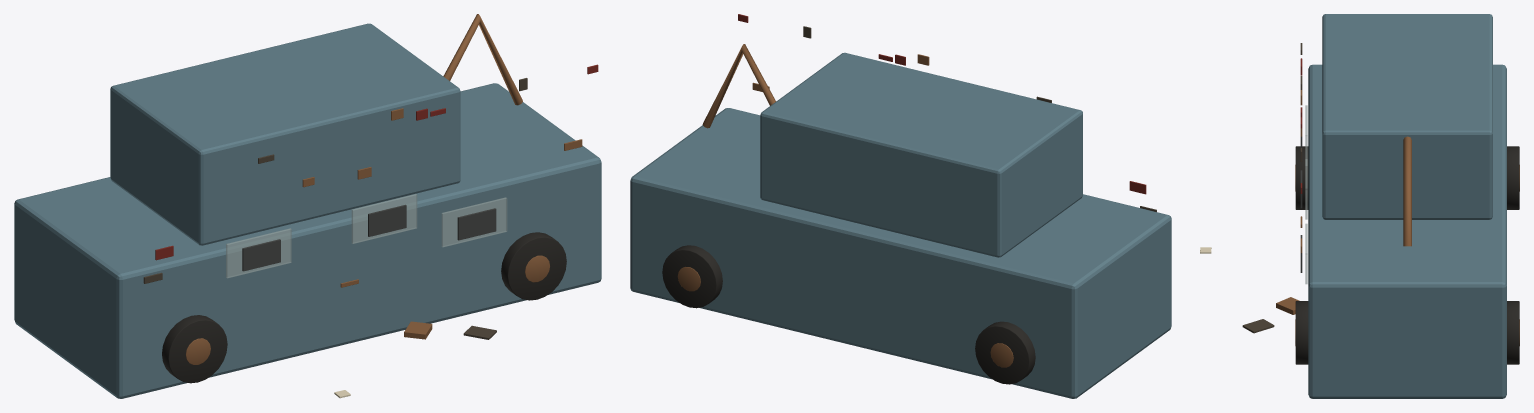
File: dz_vehicle_service_truck_old_premium.glb
3 views of the same model, side by side, from view 1: azimuth 30°, elevation 25°; view 2: azimuth 150°, elevation 25°; view 3: azimuth 270°, elevation 25° (orthographic). The views are drawn at different scales.
Visible parts, largest first — view 1: vehicle_lower_body_dented, vehicle_cabin_crushed, flat_muddy_tire_1.89_-1.0659999999999998, flat_muddy_tire_-1.89_-1.0659999999999998, broken_window_1.25, broken_window_0.25, broken_window_-1.15, tow_crane_arm, window_hole_shadow_1.25, window_hole_shadow_-1.15, window_hole_shadow_0.25, rusted_wheel_hub_1.89_-1.0659999999999998 (+1 smaller); view 2: vehicle_lower_body_dented, vehicle_cabin_crushed, flat_muddy_tire_-1.89_1.0659999999999998, flat_muddy_tire_1.89_1.0659999999999998, tow_crane_arm; view 3: vehicle_lower_body_dented, vehicle_cabin_crushed, tow_crane_arm, flat_muddy_tire_1.89_-1.0659999999999998, flat_muddy_tire_-1.89_-1.0659999999999998, flat_muddy_tire_-1.89_1.0659999999999998, flat_muddy_tire_1.89_1.0659999999999998.
Boxes of the visible parts, left/top/right/bottom form: vehicle_lower_body_dented: left=14, top=83, right=601, bottom=398; vehicle_cabin_crushed: left=110, top=23, right=460, bottom=245; flat_muddy_tire_1.89_-1.0659999999999998: left=501, top=232, right=566, bottom=300; flat_muddy_tire_-1.89_-1.0659999999999998: left=162, top=315, right=227, bottom=383; broken_window_1.25: left=441, top=197, right=507, bottom=247; broken_window_0.25: left=351, top=194, right=417, bottom=243; broken_window_-1.15: left=226, top=228, right=291, bottom=278; tow_crane_arm: left=443, top=14, right=522, bottom=105; window_hole_shadow_1.25: left=457, top=208, right=496, bottom=240; window_hole_shadow_-1.15: left=242, top=239, right=280, bottom=271; window_hole_shadow_0.25: left=368, top=204, right=406, bottom=236; rusted_wheel_hub_1.89_-1.0659999999999998: left=525, top=255, right=549, bottom=282; vehicle_lower_body_dented: left=630, top=108, right=1171, bottom=398; vehicle_cabin_crushed: left=760, top=52, right=1082, bottom=257; flat_muddy_tire_-1.89_1.0659999999999998: left=975, top=321, right=1035, bottom=384; flat_muddy_tire_1.89_1.0659999999999998: left=662, top=245, right=722, bottom=308; tow_crane_arm: left=702, top=44, right=775, bottom=128; vehicle_lower_body_dented: left=1308, top=64, right=1506, bottom=398; vehicle_cabin_crushed: left=1322, top=14, right=1492, bottom=219; tow_crane_arm: left=1403, top=136, right=1411, bottom=246; flat_muddy_tire_1.89_-1.0659999999999998: left=1295, top=301, right=1308, bottom=364; flat_muddy_tire_-1.89_-1.0659999999999998: left=1295, top=146, right=1308, bottom=209; flat_muddy_tire_-1.89_1.0659999999999998: left=1507, top=146, right=1519, bottom=209; flat_muddy_tire_1.89_1.0659999999999998: left=1507, top=301, right=1519, bottom=364.
Bounding box in the file's own units: 5.4 × 2.64 × 3.31.
